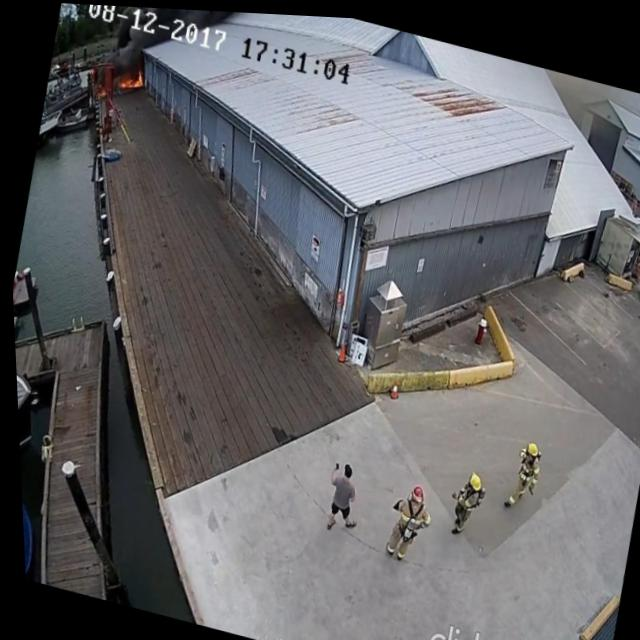fire: (115, 62, 147, 92), (97, 85, 107, 96)
